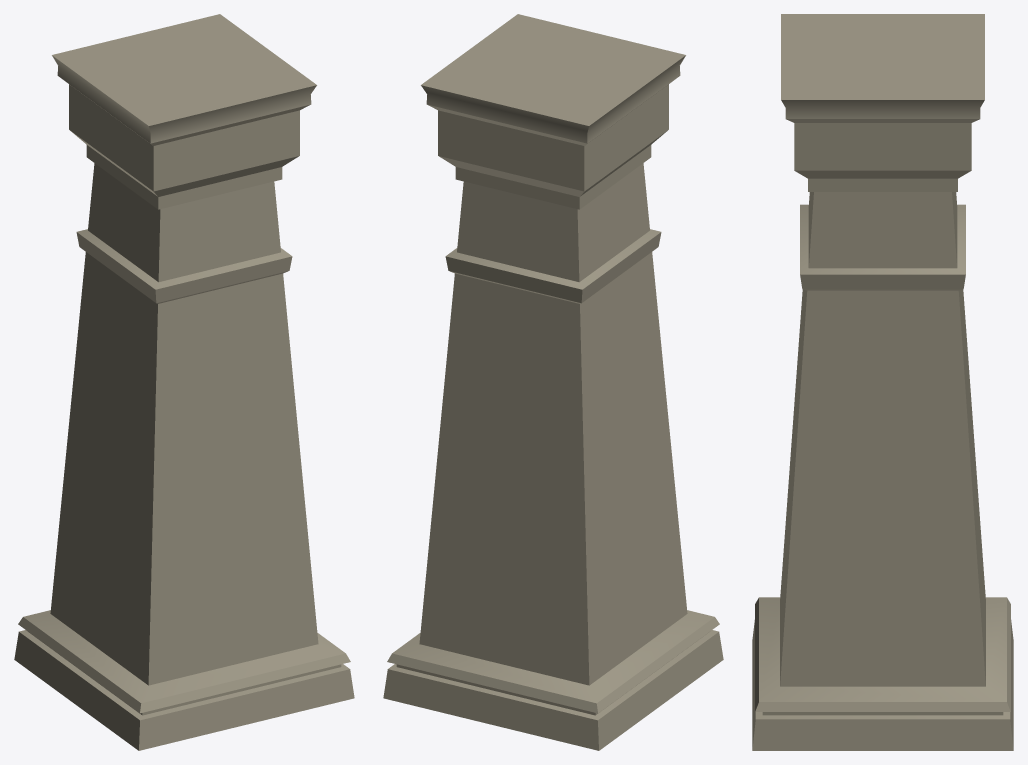
The model's file is Column_SquareSmall.gltf.
3 views of the same model, side by side, from view 1: azimuth 30°, elevation 25°; view 2: azimuth 150°, elevation 25°; view 3: azimuth 270°, elevation 25° (orthographic). The views are drawn at different scales.
Visible parts, largest first — view 1: Column_SquareSmall; view 2: Column_SquareSmall; view 3: Column_SquareSmall.
Part boxes in pixels (left/top/right/bottom): Column_SquareSmall: left=14, top=14, right=354, bottom=750; Column_SquareSmall: left=383, top=14, right=723, bottom=750; Column_SquareSmall: left=752, top=14, right=1013, bottom=750.
Size of the model in its own units: 0.9073 by 2.45 by 0.9073.
